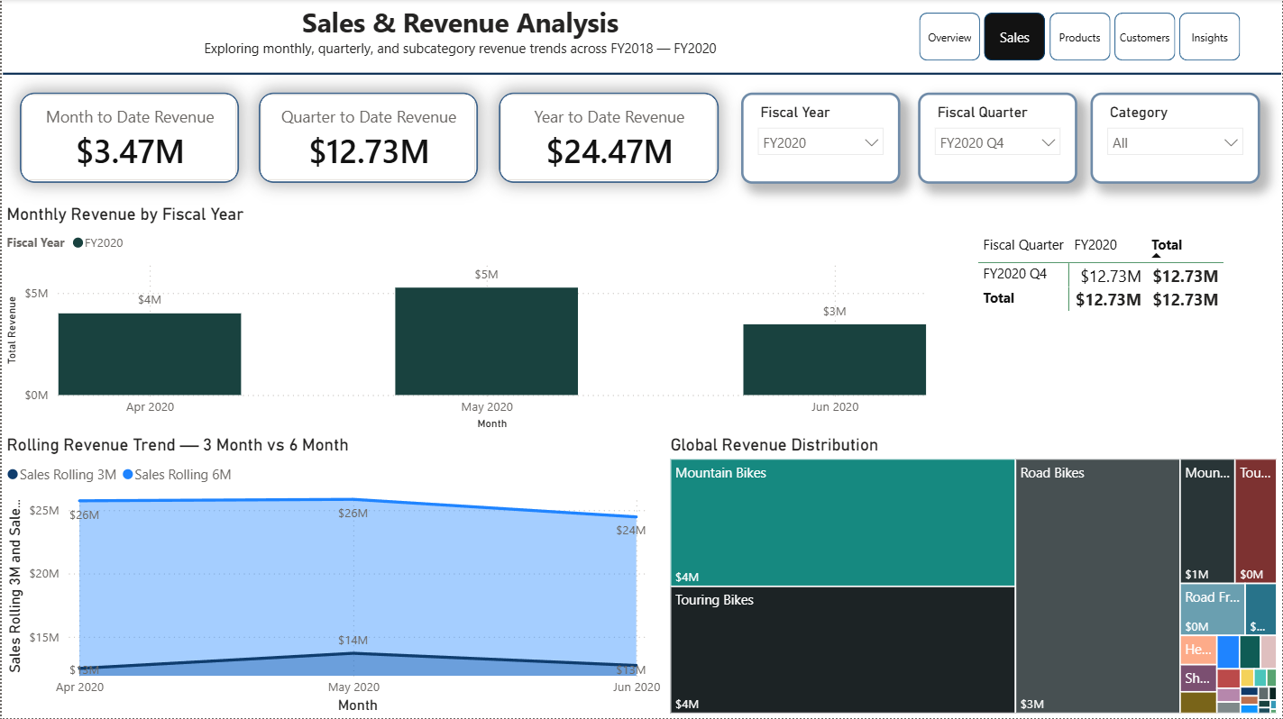

What the dashboard file says about the page in this screenshot:
{"tool":"powerbi","page":{"name":"Sales","canvas":[1280,720],"ordinal":1},"visuals":[{"type":"cardVisual","fields":{"Data":["_Measures.Sales Revenue MTD"]},"box":[18,93.7,219.5,90],"z":0},{"type":"cardVisual","fields":{"Data":["_Measures.Sales Revenue YTD"]},"box":[496.9,93.7,220,90],"z":1000},{"type":"cardVisual","fields":{"Data":["_Measures.Sales Revenue QTD"]},"box":[256.8,93.7,219.5,90],"z":2000},{"type":"columnChart","title":"Monthly Revenue by Fiscal Year","fields":{"Y":["_Measures.Total Revenue"],"Category":["Date.Month"],"Series":["Date.Fiscal Year"]},"box":[0,205.4,929.5,231.1],"z":3000},{"type":"treemap","title":"Revenue Share by Product Subcategory","fields":{"Group":["Product.Subcategory"],"Values":["_Measures.Total Revenue"]},"box":[663.8,436.5,616.2,283.7],"z":4000},{"type":"pivotTable","title":"Quarterly Revenue Breakdown","fields":{"Rows":["Date.Fiscal Quarter"],"Values":["_Measures.Total Revenue"],"Columns":["Date.Fiscal Year"]},"box":[971.9,229.8,306.8,172],"z":5000},{"type":"slicer","fields":{"Values":["Date.Fiscal Quarter"]},"box":[916.7,93.7,159.2,91.2],"z":6000},{"type":"textbox","box":[0,0,917.1,74.6],"z":7000},{"type":"shape","box":[1.3,59.1,1278.7,32.1],"z":8000},{"type":"slicer","fields":{"Values":["Product.Category"]},"box":[1088.7,93.7,169.5,91.2],"z":9000},{"type":"slicer","fields":{"Values":["Date.Fiscal Year"]},"box":[739.5,93.7,159.2,91.2],"z":10000},{"type":"areaChart","title":"Rolling Revenue Trend — 3 Month vs 6 Month","fields":{"Category":["Date.Month"],"Y":["_Measures.Sales Rolling 3M","_Measures.Sales Rolling 6M"]},"box":[0,436.5,663.8,283.7],"z":11000},{"type":"bookmarkNavigator","box":[917.1,13.5,325.3,48.9],"z":12000}]}

Visuals, with their boxes in screenshot pixels (x1, y1, x2, y2), scaled from the page's 1280x720 canvas onto the 1283x719 screenshot:
cardVisual - _Measures.Sales Revenue MTD: (18, 94, 238, 183)
cardVisual - _Measures.Sales Revenue YTD: (498, 94, 719, 183)
cardVisual - _Measures.Sales Revenue QTD: (257, 94, 477, 183)
"Monthly Revenue by Fiscal Year" columnChart: (0, 205, 932, 436)
"Revenue Share by Product Subcategory" treemap: (665, 436, 1282, 718)
"Quarterly Revenue Breakdown" pivotTable: (974, 229, 1282, 401)
slicer - Date.Fiscal Quarter: (919, 94, 1078, 185)
textbox: (0, 0, 919, 74)
shape: (1, 59, 1282, 91)
slicer - Product.Category: (1091, 94, 1261, 185)
slicer - Date.Fiscal Year: (741, 94, 901, 185)
"Rolling Revenue Trend — 3 Month vs 6 Month" areaChart: (0, 436, 665, 718)
bookmarkNavigator: (919, 13, 1245, 62)
